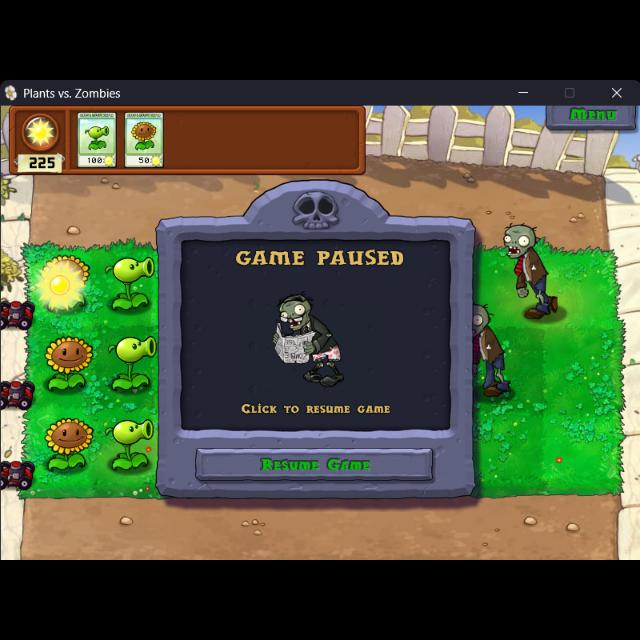Garden: (20, 241, 626, 499)
Menu Button: (546, 103, 638, 131)
Mower: (1, 292, 40, 330), (1, 376, 36, 416), (0, 455, 36, 491)
Newspaper Zombie: (266, 292, 350, 392)
Peashooter: (74, 108, 118, 170)
Peashooter Seed: (105, 327, 159, 401), (99, 252, 159, 316), (101, 417, 152, 478)
Resume Button: (191, 444, 437, 486)
Seed Panel: (11, 106, 367, 176)
Stop Menu: (154, 176, 478, 497)
Sun: (33, 260, 87, 312)
Sunflower: (122, 111, 166, 169)
Sunflower Seed: (42, 332, 94, 400), (39, 412, 91, 476), (42, 247, 94, 283)
Zombie: (499, 218, 563, 324), (471, 303, 513, 399)
